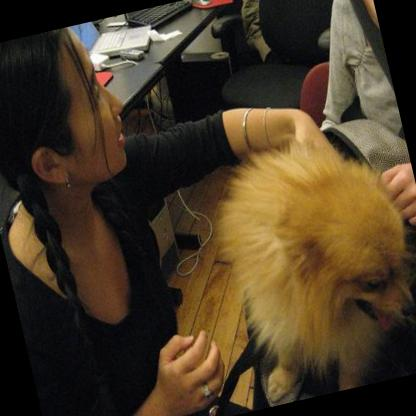Pomeranian: (195, 117, 416, 408)
